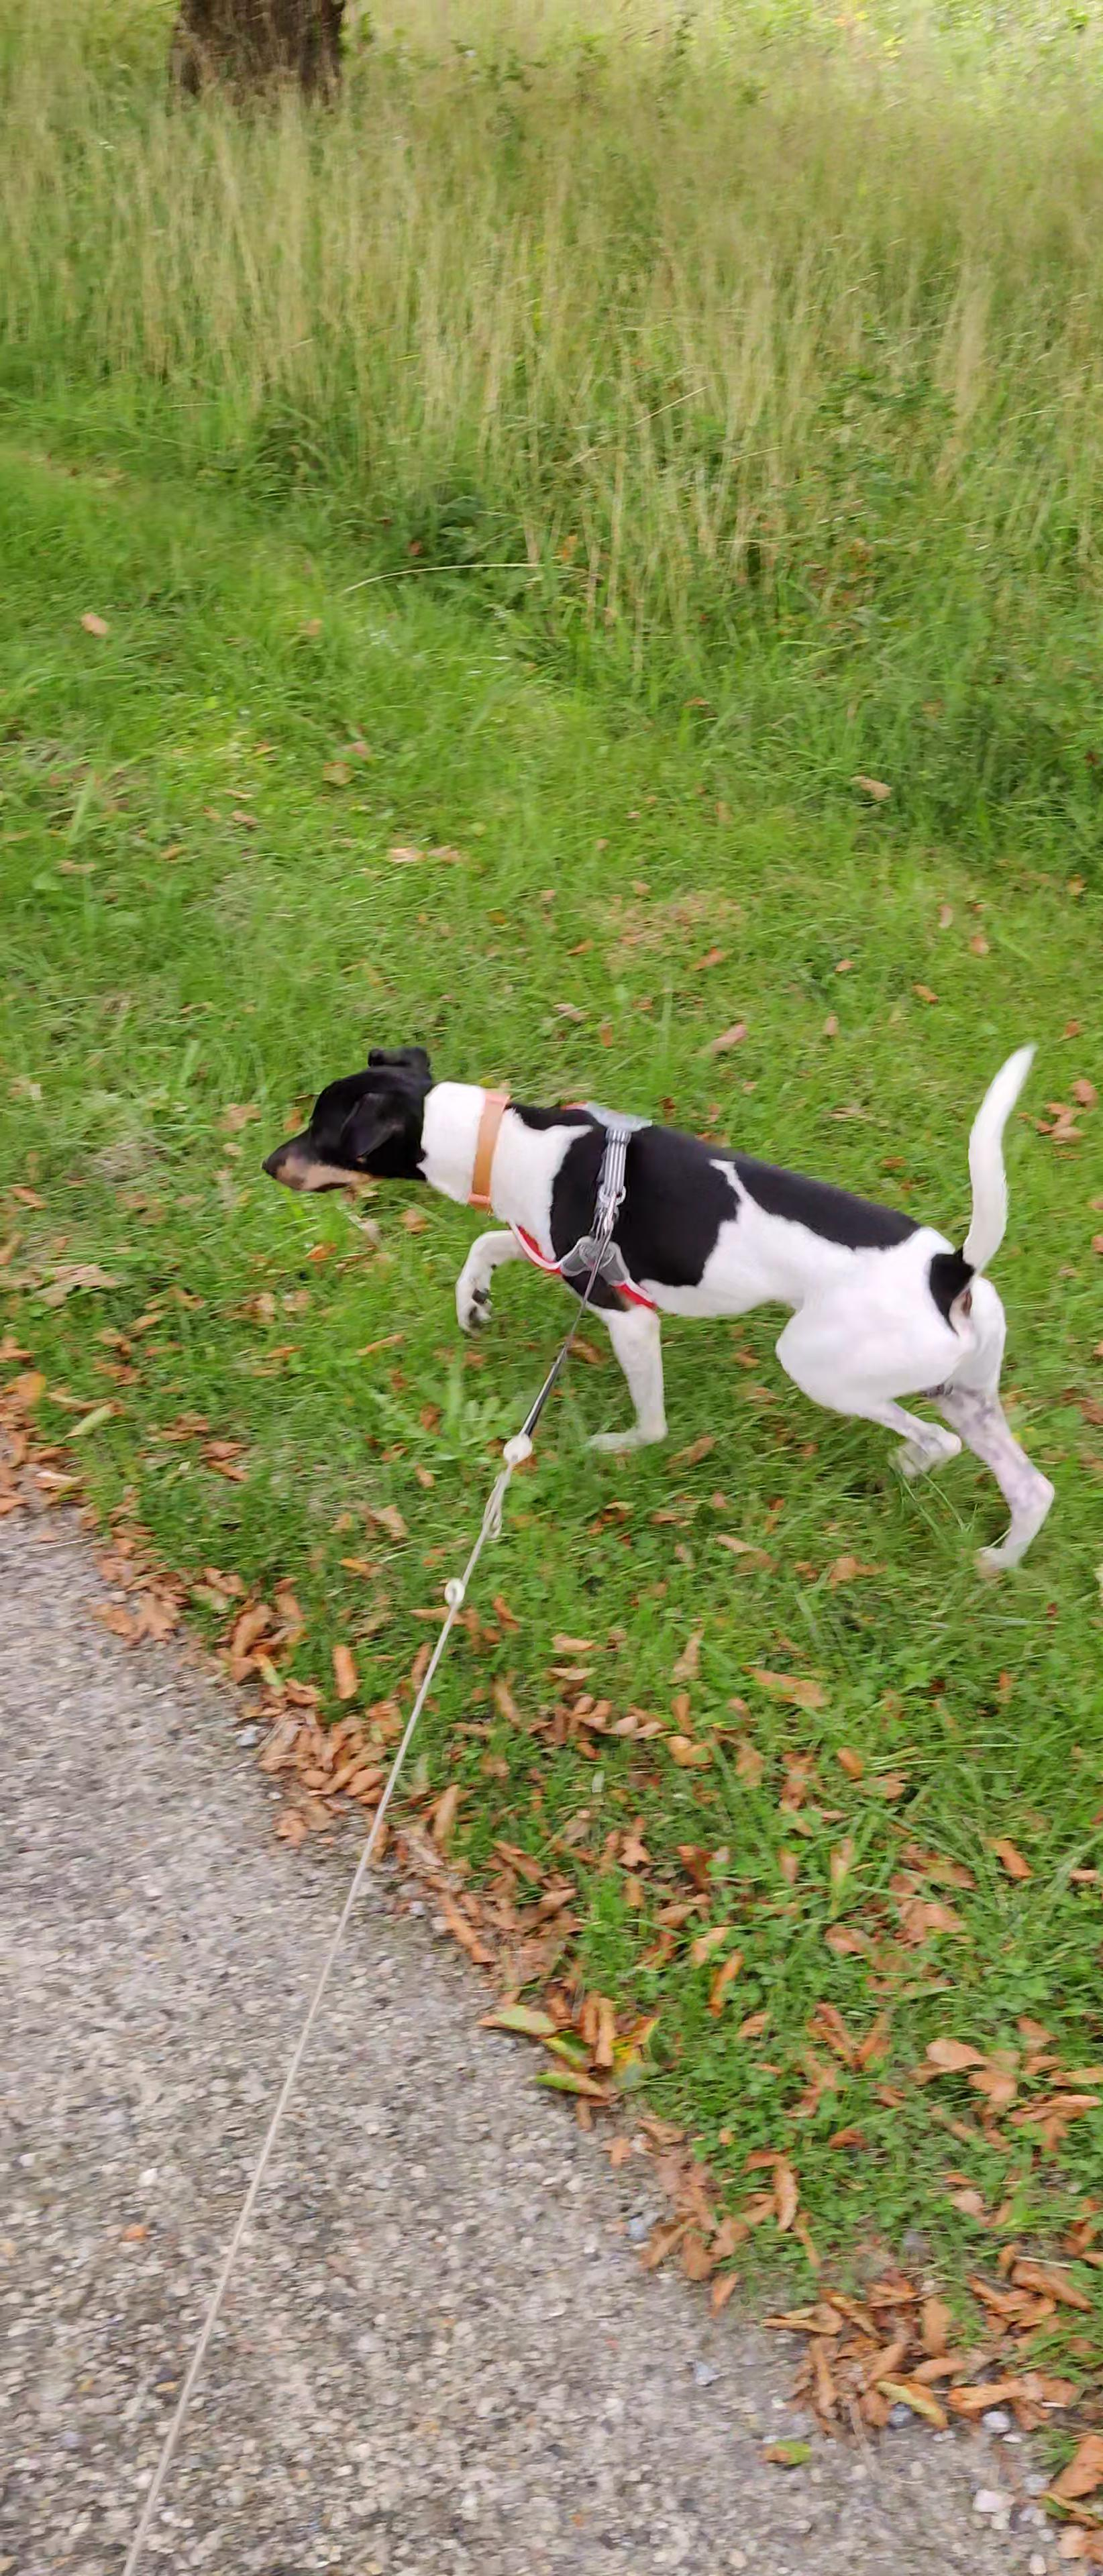Dog: (252, 963, 1070, 1607)
